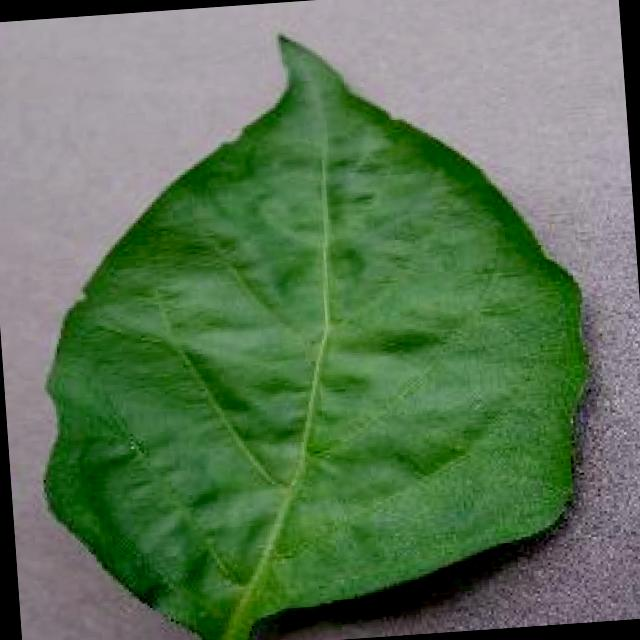Leaf: (2, 5, 624, 632)
